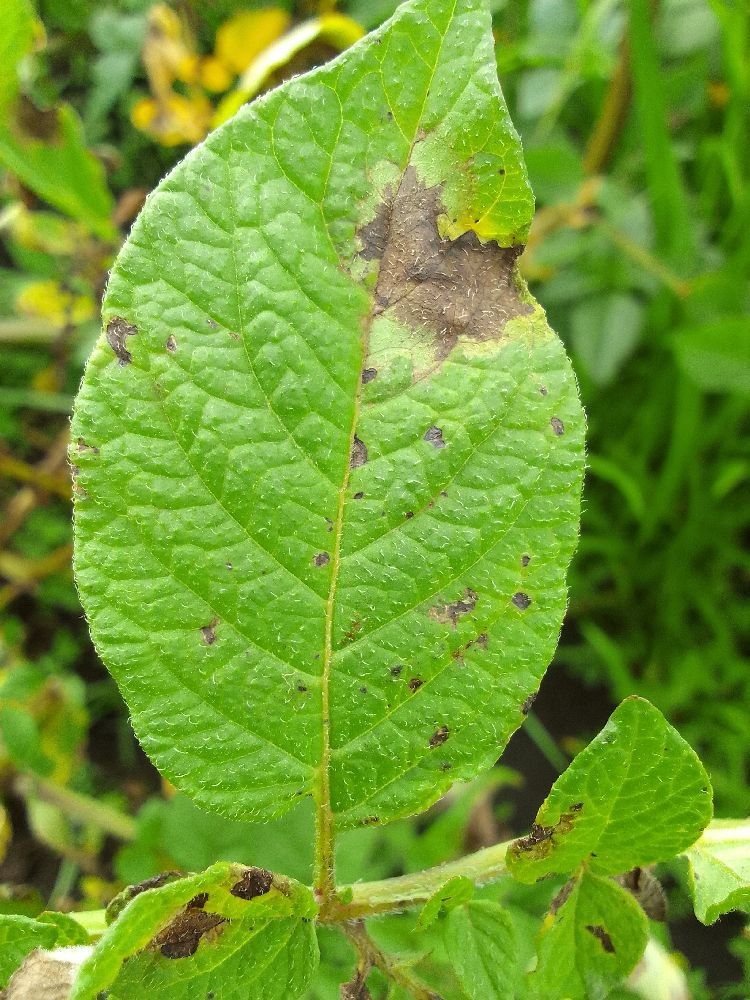late_blight: (339, 150, 612, 379), (436, 641, 635, 879), (110, 0, 370, 176), (0, 388, 93, 577)
